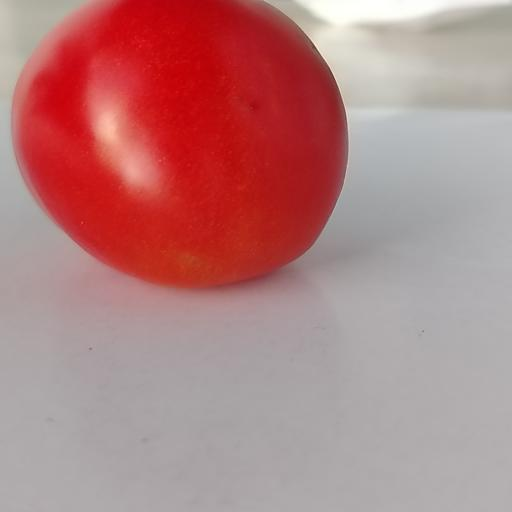ripe: (12, 0, 347, 287)
